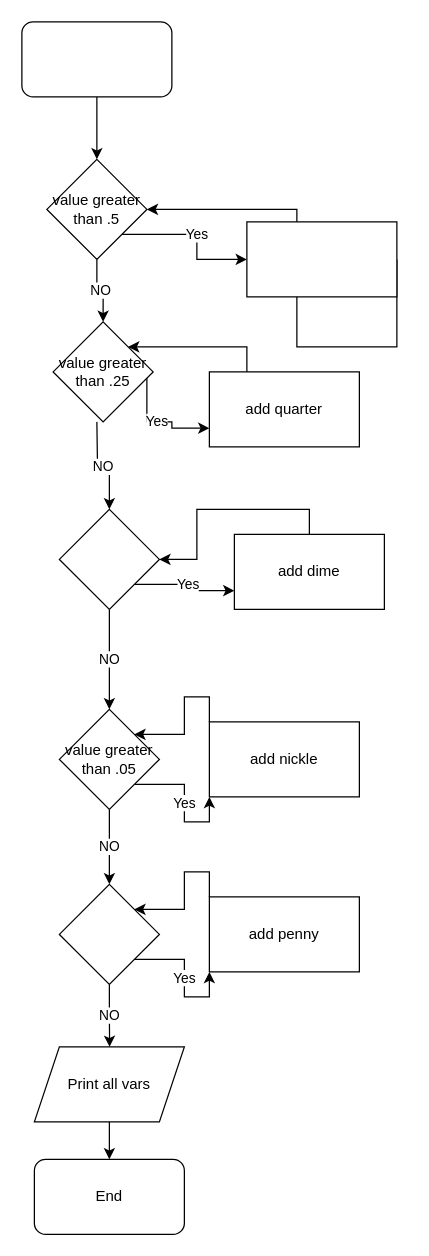
The diagram is 429 pixels wide and 1256 high, and some of its shapes have lost their labels. Here are the shapes that lost their labels. From the top down, the centre of each, then its label:
the point at 96,59: Start
the point at 321,259: add Half dollar
the point at 108,558: value greater than .1
the point at 108,933: value greater than .01
